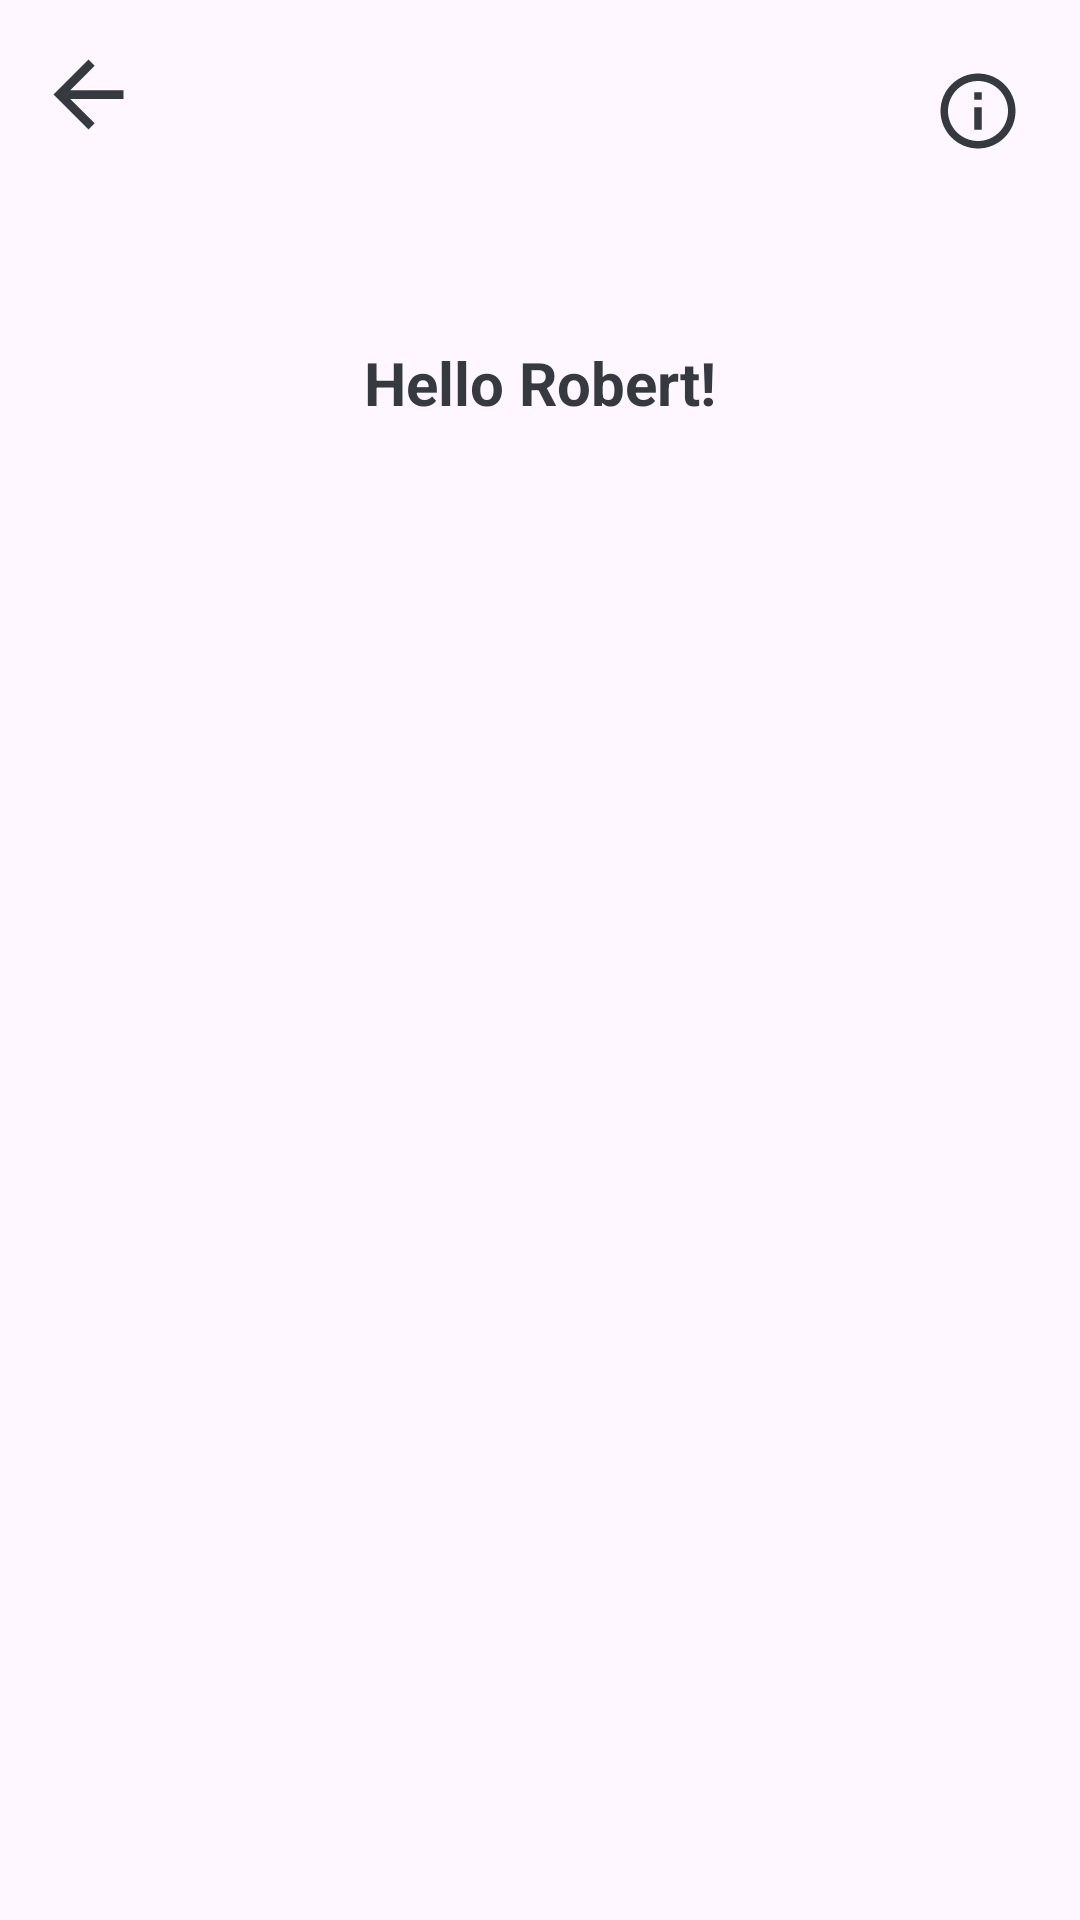

Named icons in this screenshot (1080px x 1920px) and their bounding boxes, (x1, y1, x2, y2):
arrow back: (53, 59, 124, 130)
info: (940, 73, 1016, 149)
